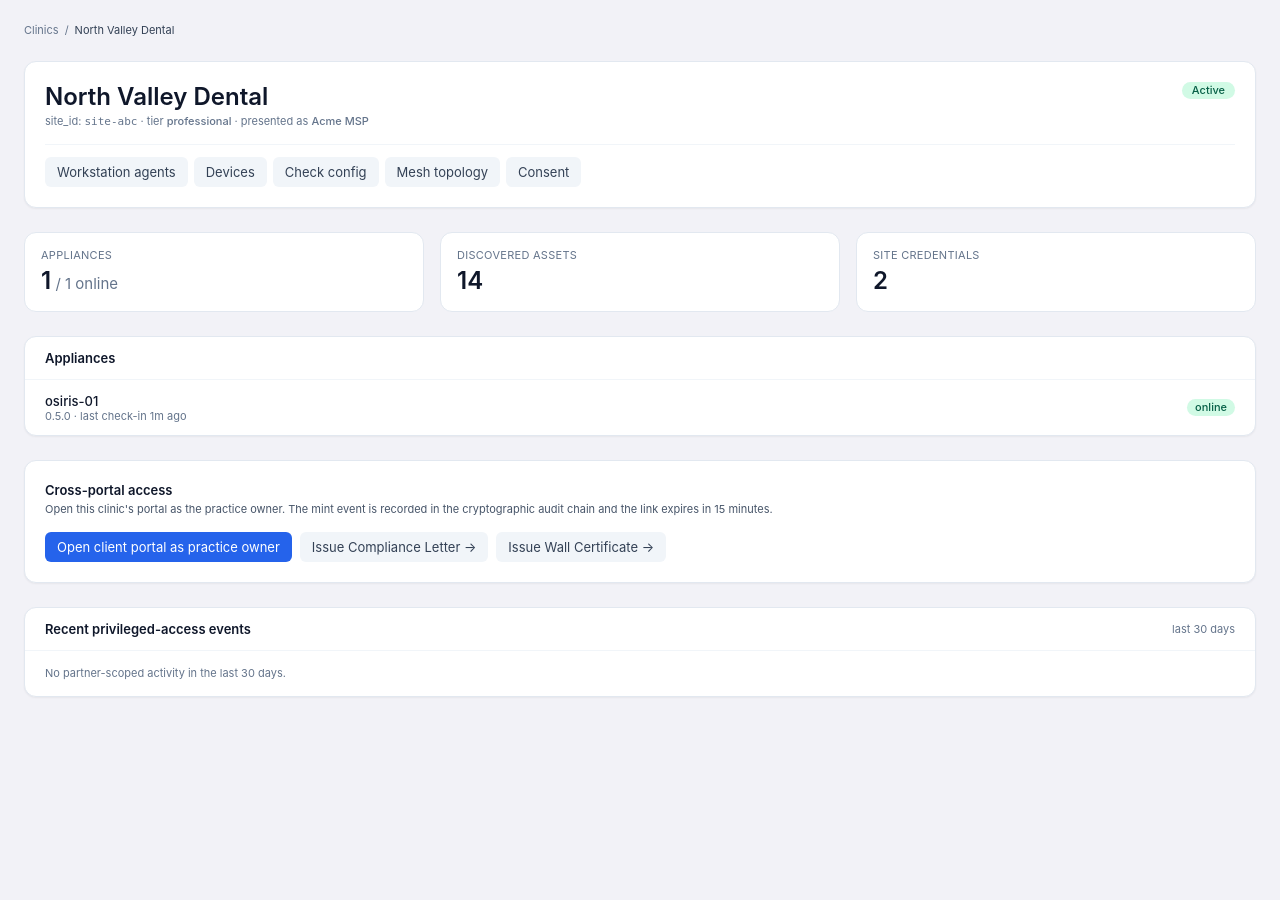
Test: PartnerSiteDetail › 8-11. mint posts on ≥20 chars + renders URL + attestation_hash
Click the button with test id "open-mint-modal" at (168, 547), box 45,532 -> 292,562
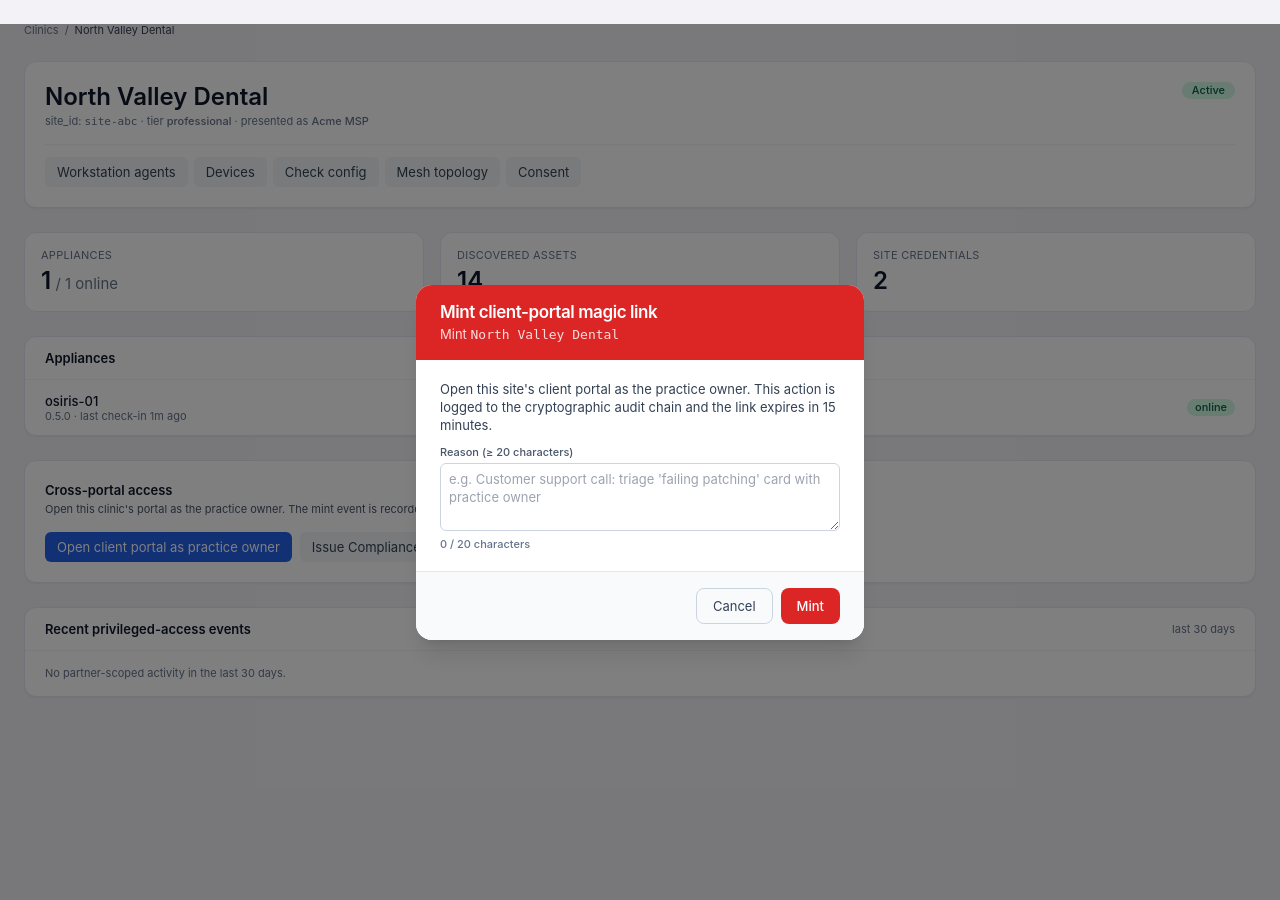
Replace the text in the text box with test id "mint-reason-input" with "Customer triage call: 15-min owner walkthrough OK" at (640, 496), box 440,462 -> 840,530
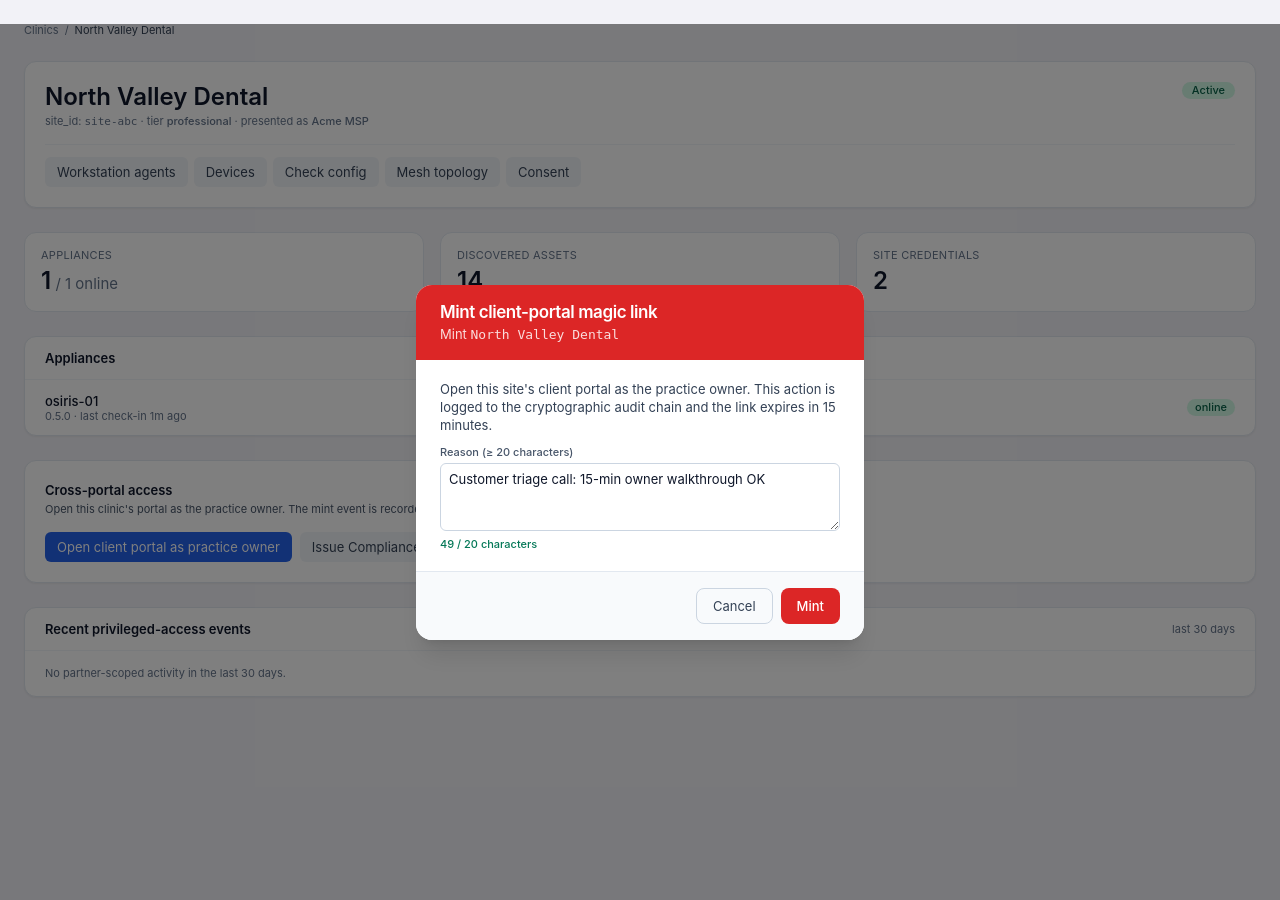
Click the button "Mint" at (810, 606), box 781,588 -> 840,624
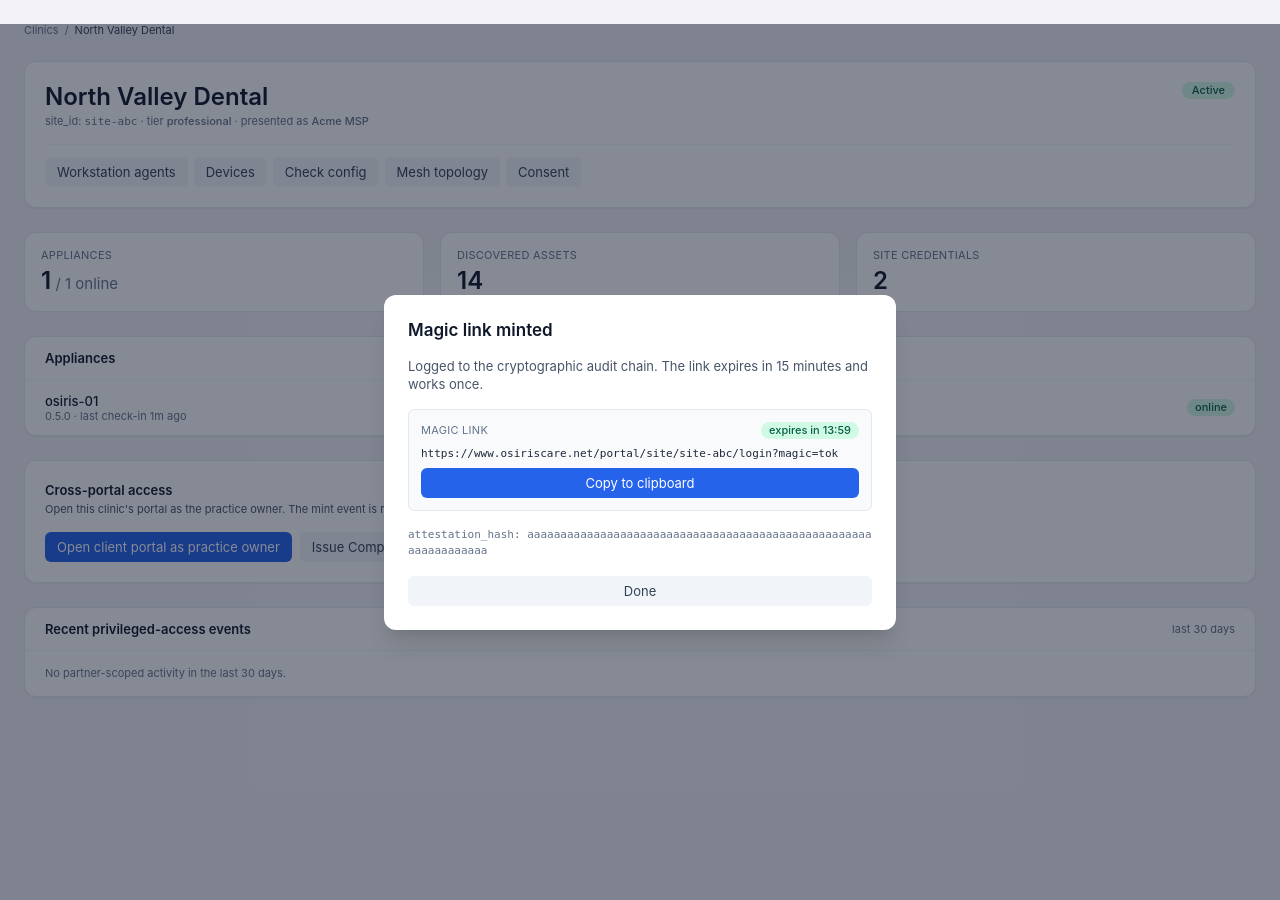
Result: the text with test id "mint-url" shows "magic=tok" at 421,446 -> 838,460
Result: the text "expires in 13:59" is shown at 761,422 -> 859,438
